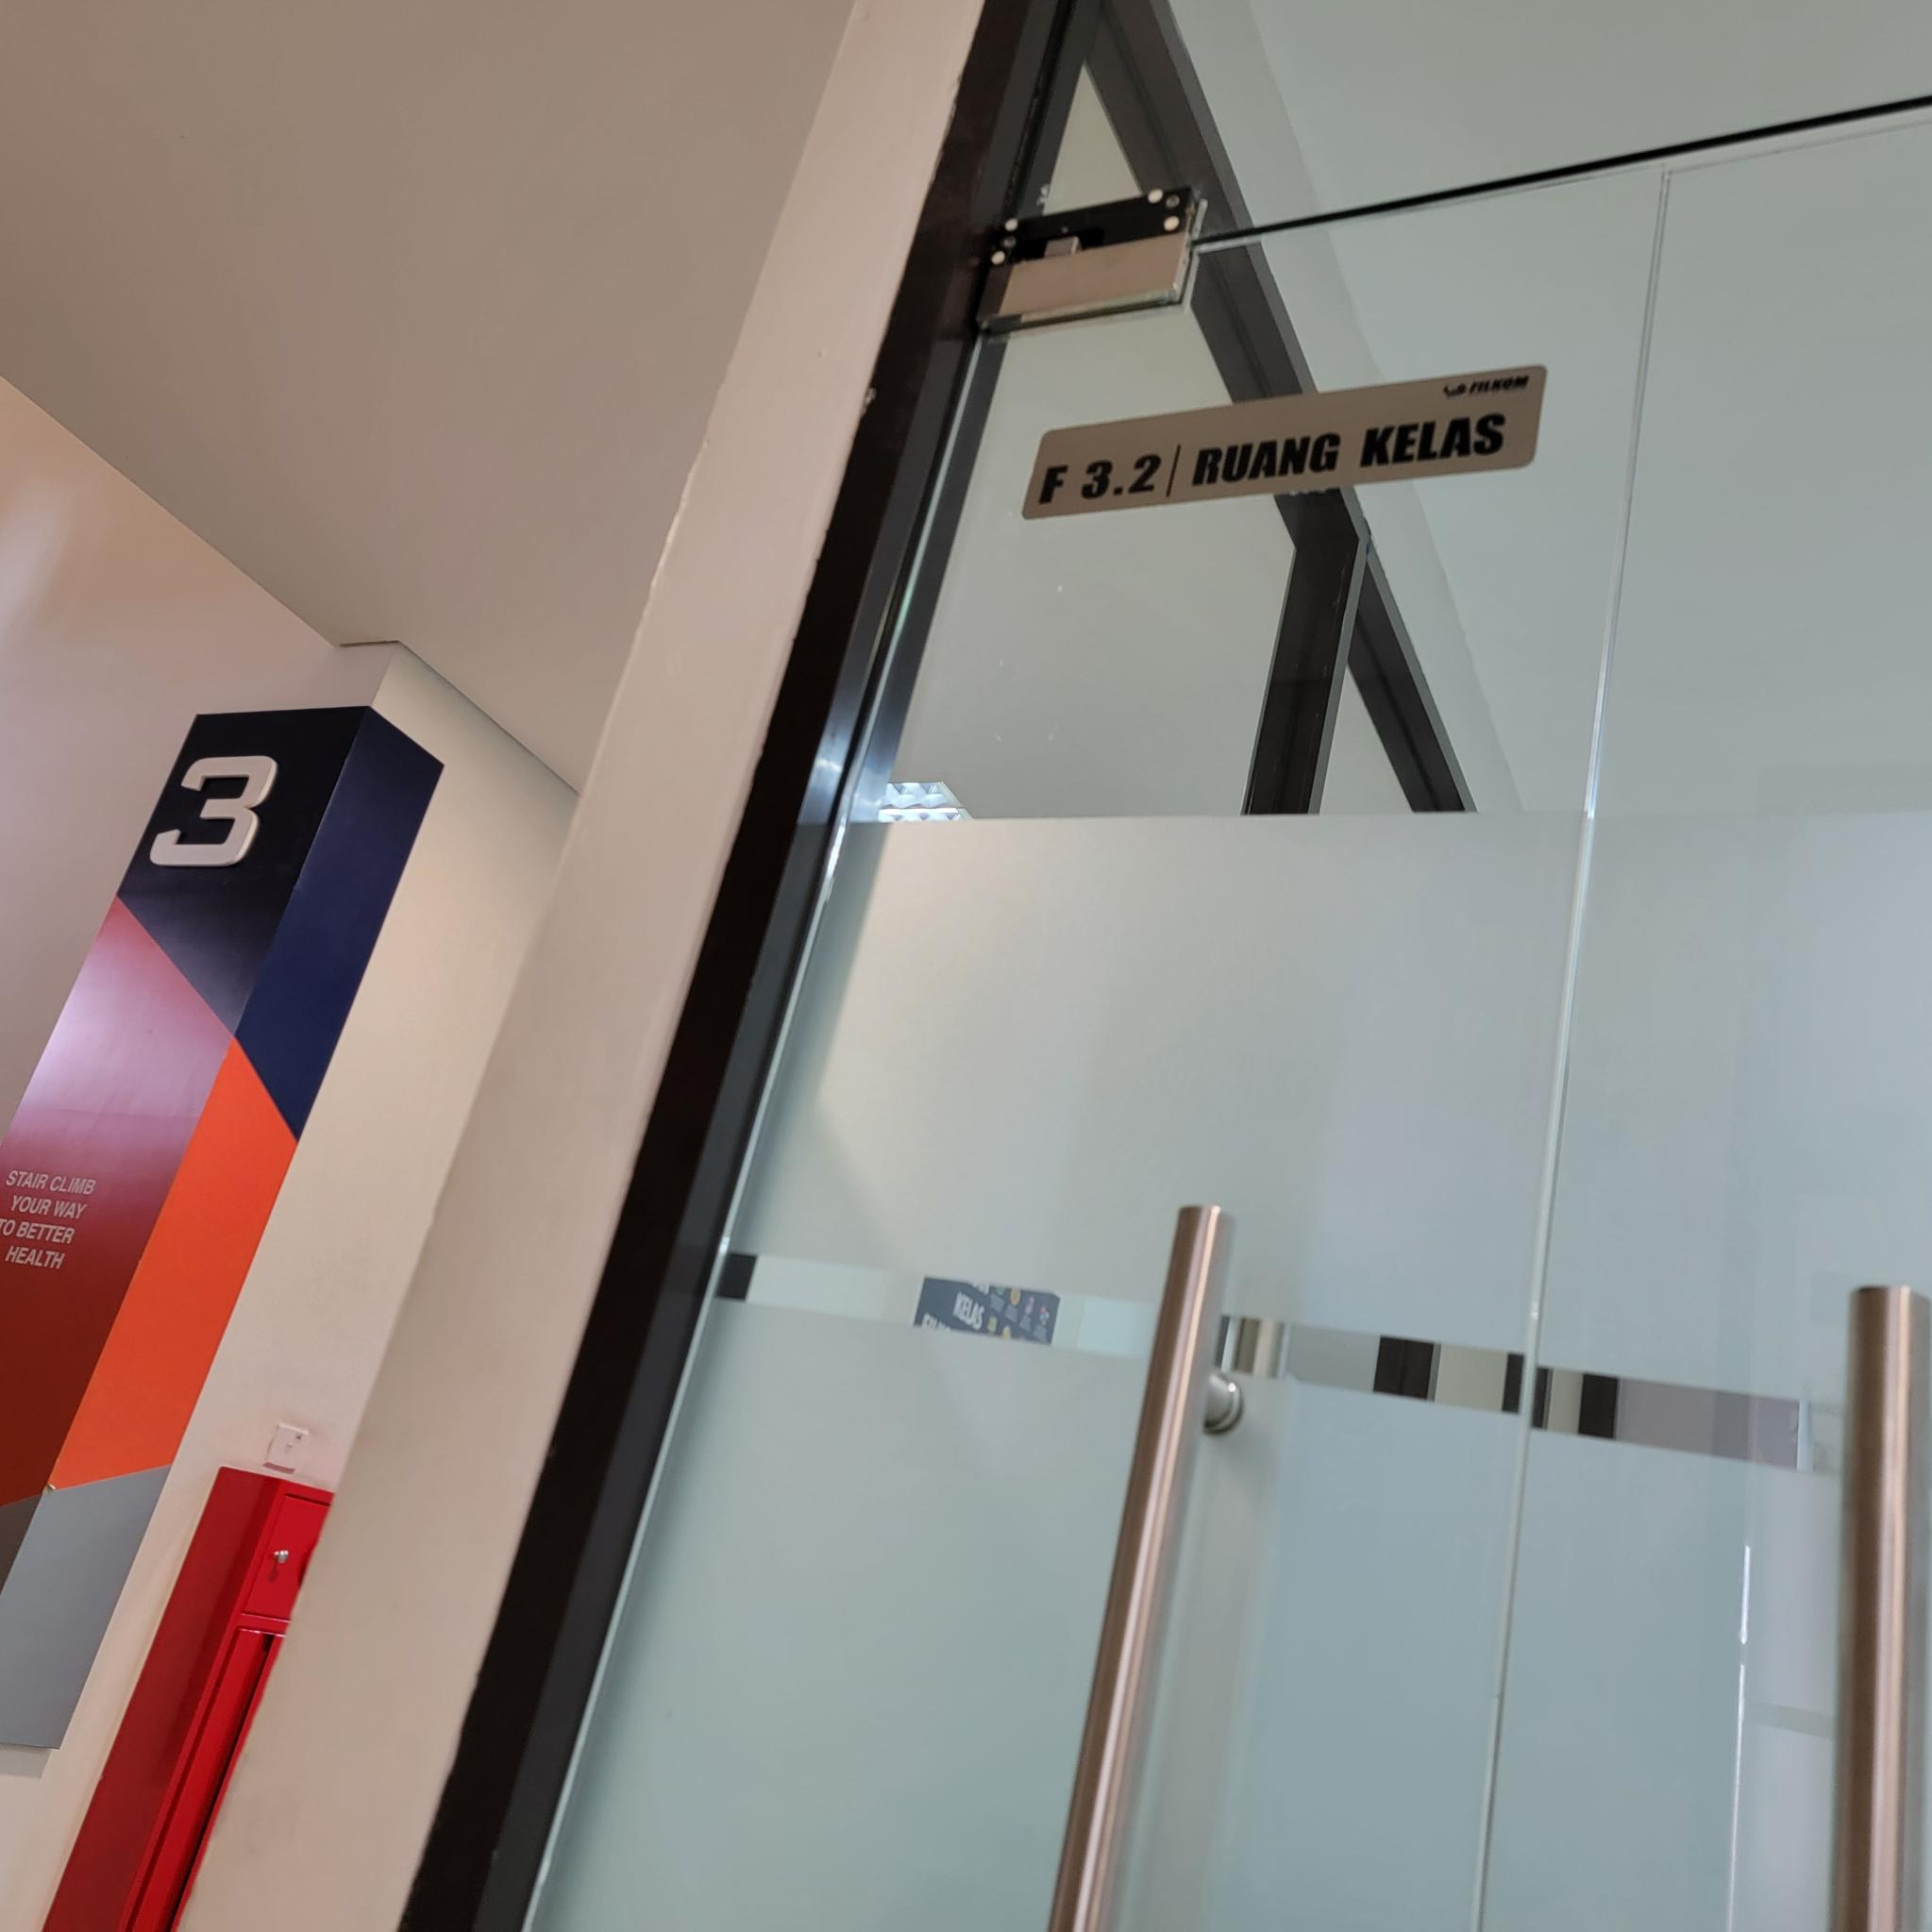plate: (1024, 363, 1548, 522)
